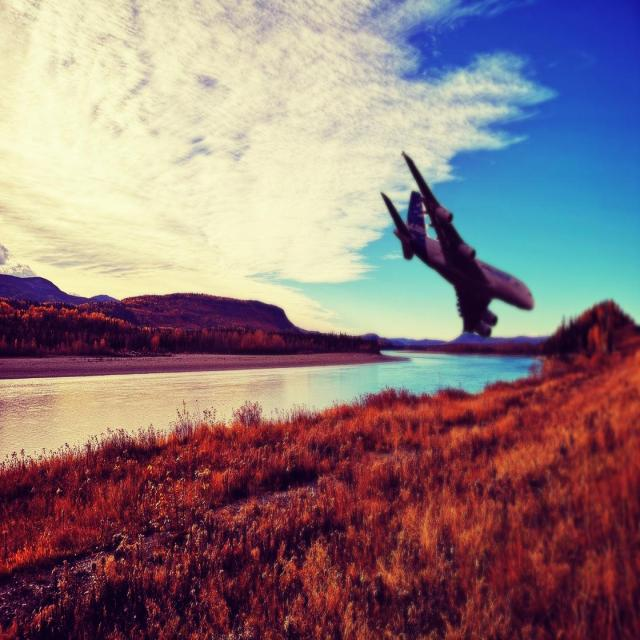airplane: (380, 150, 534, 338)
